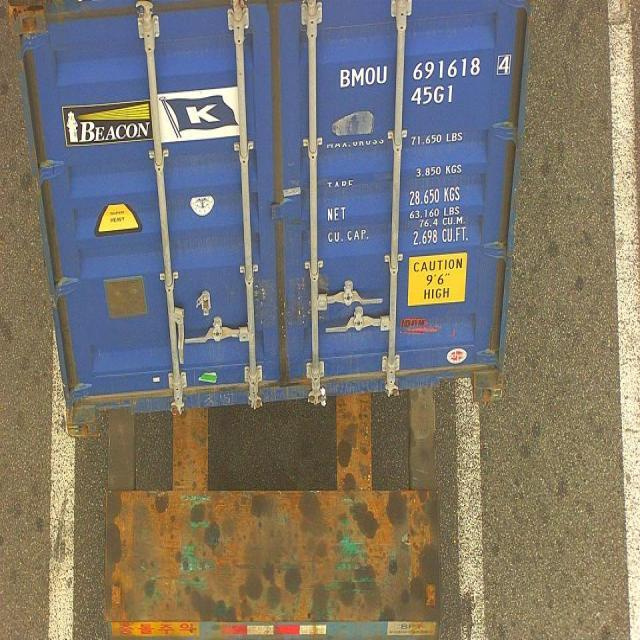ISO: (412, 86, 454, 105)
container_number: (341, 52, 513, 84)
